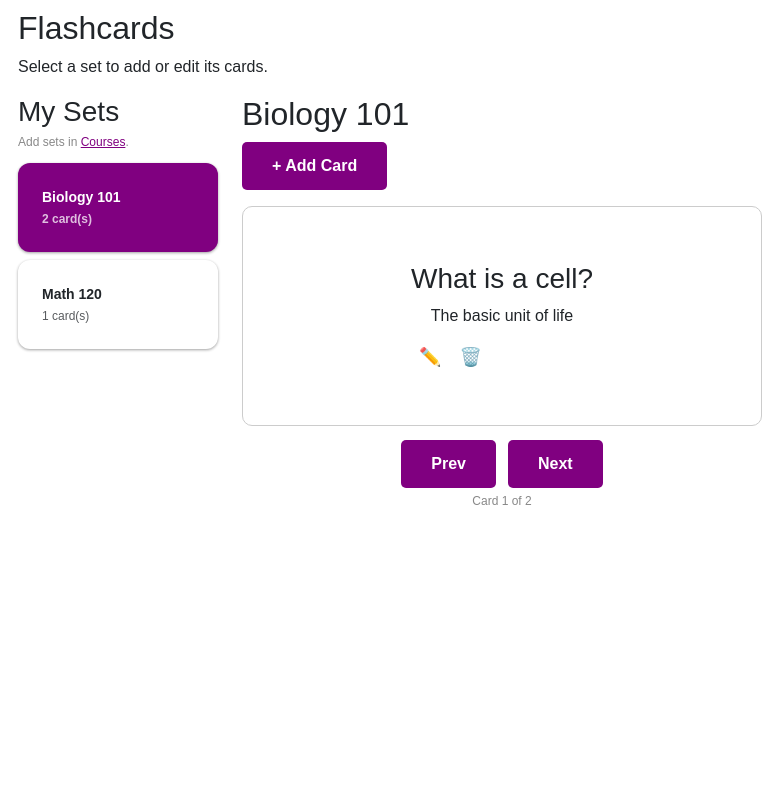
Adding flashcards › opens the add card form
The width and height of the screenshot is (779, 786).
Step 1. Click the button "+ Add Card" → (315, 166), box left=242, top=142, right=387, bottom=190
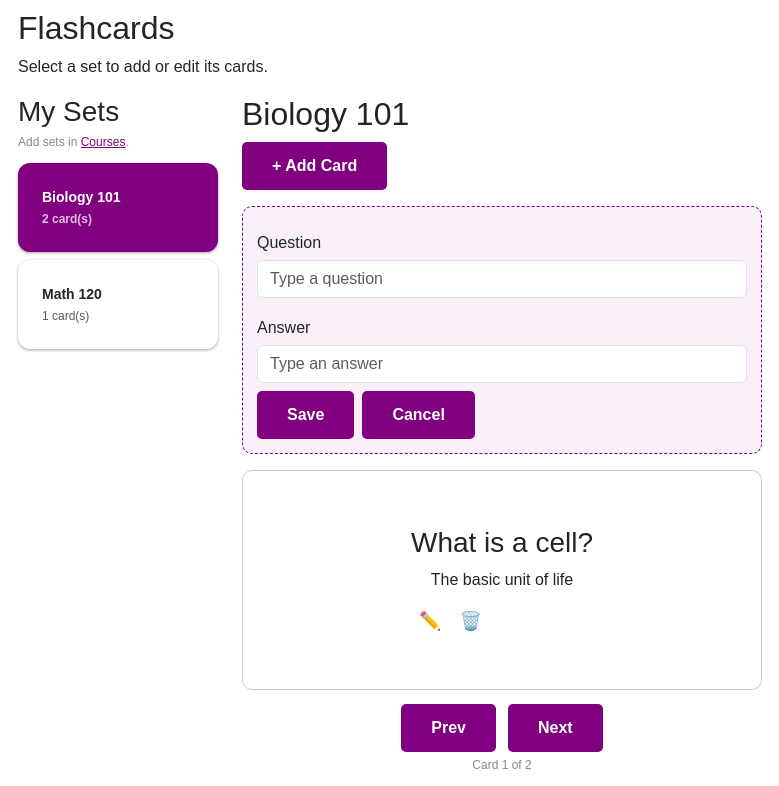
Expected: the field with placeholder "Type a question" is shown, left=257, top=260, right=747, bottom=298
Expected: the field with placeholder "Type an answer" is shown, left=257, top=345, right=747, bottom=383
